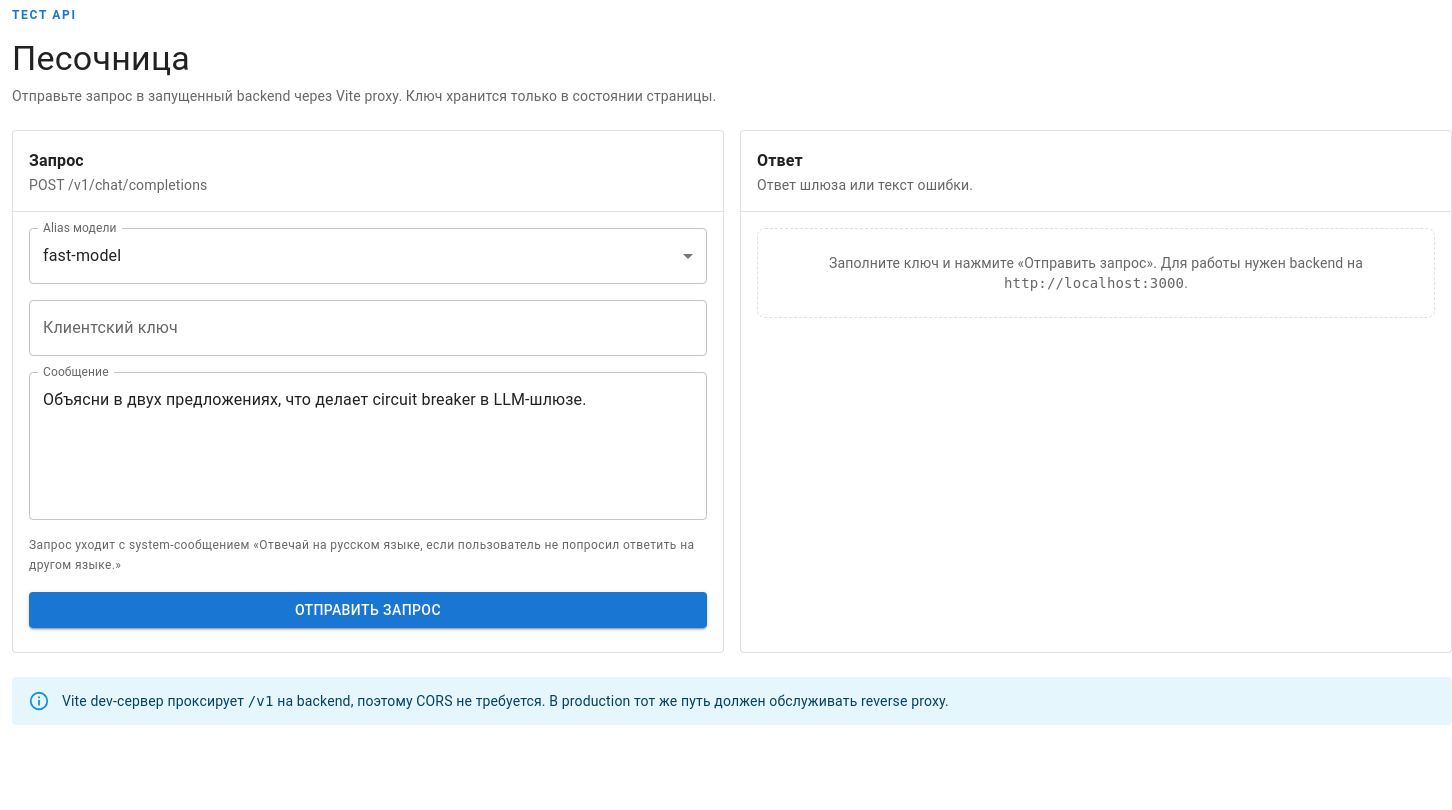
PlaygroundPage › renders a successful gateway answer
This screenshot has width=1452, height=810.
Type "lgw_test" into the password field labelled "Клиентский ключ" at (368, 328), box [29, 300, 707, 356]
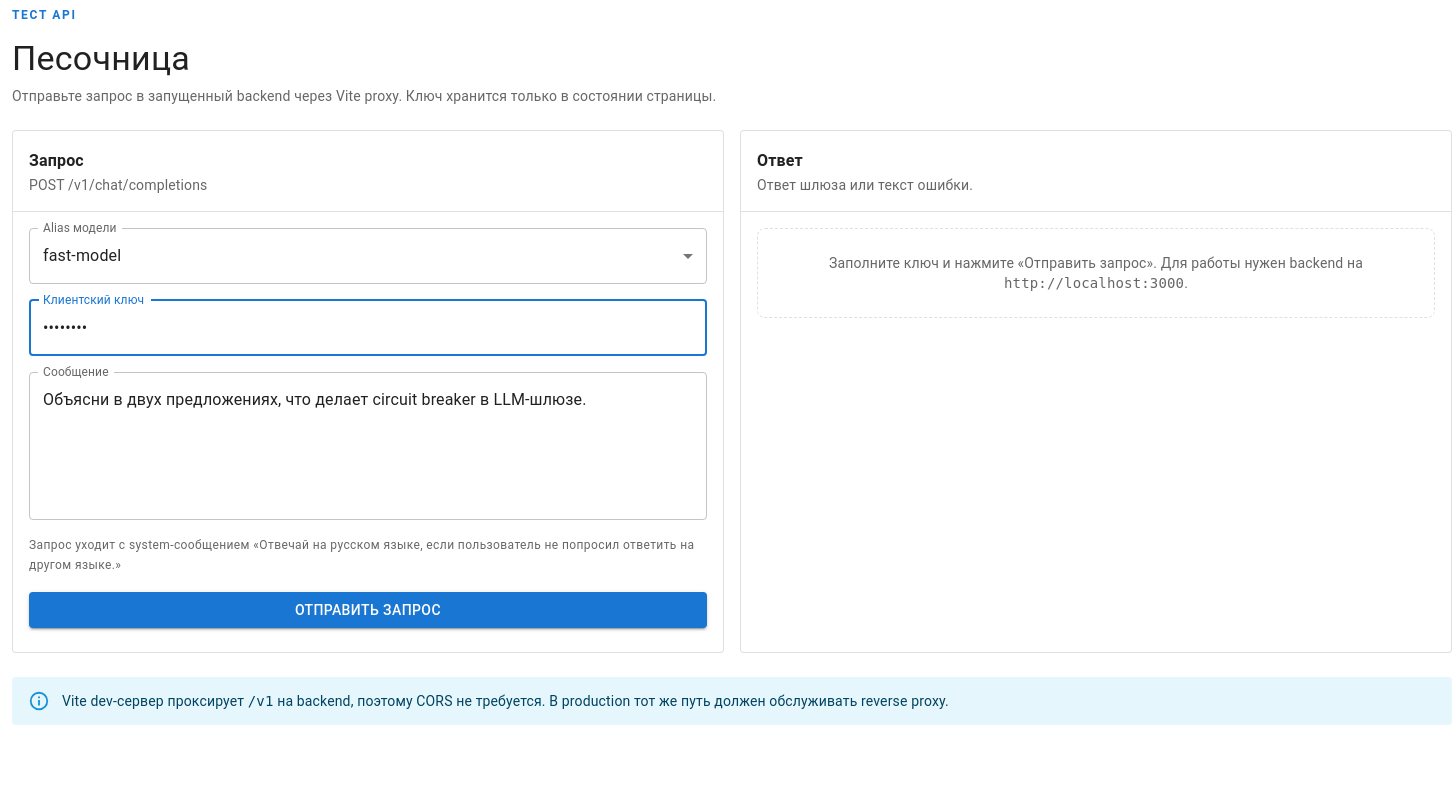
Click the button "Отправить запрос" at (368, 610), box [29, 592, 707, 628]
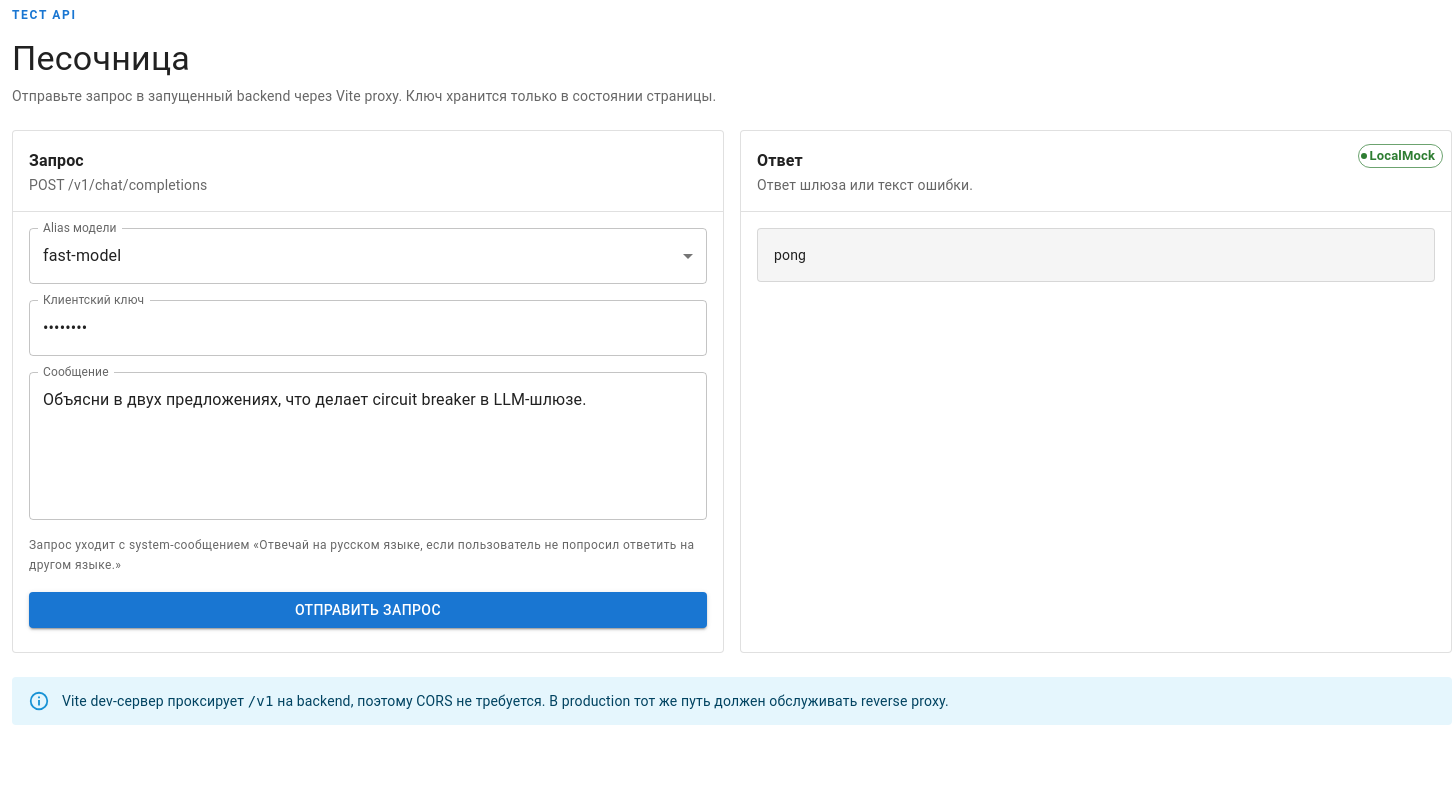
Check: the text "pong" is shown, box [774, 247, 806, 263]
Check: the text "LocalMock" is shown, box [1370, 148, 1435, 163]
